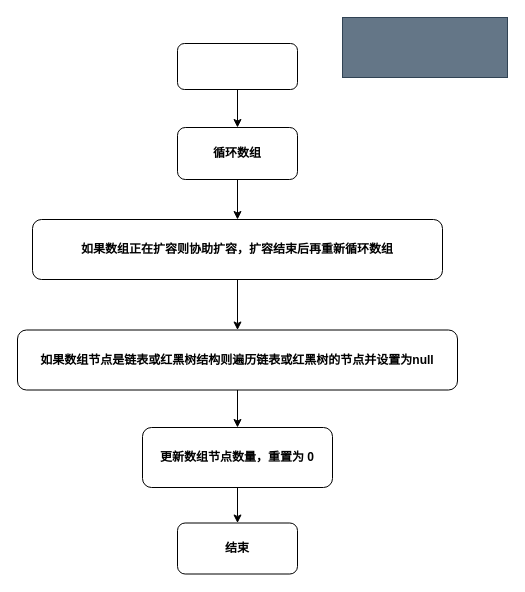
Image size: 525x592. Some labels were removed from this diagram. Here are the shapes that lost their labels. From the top down, the centre of each, then its label:
At pixel 237 66: "开始".
At pixel 425 47: "clear 方法流程图".
